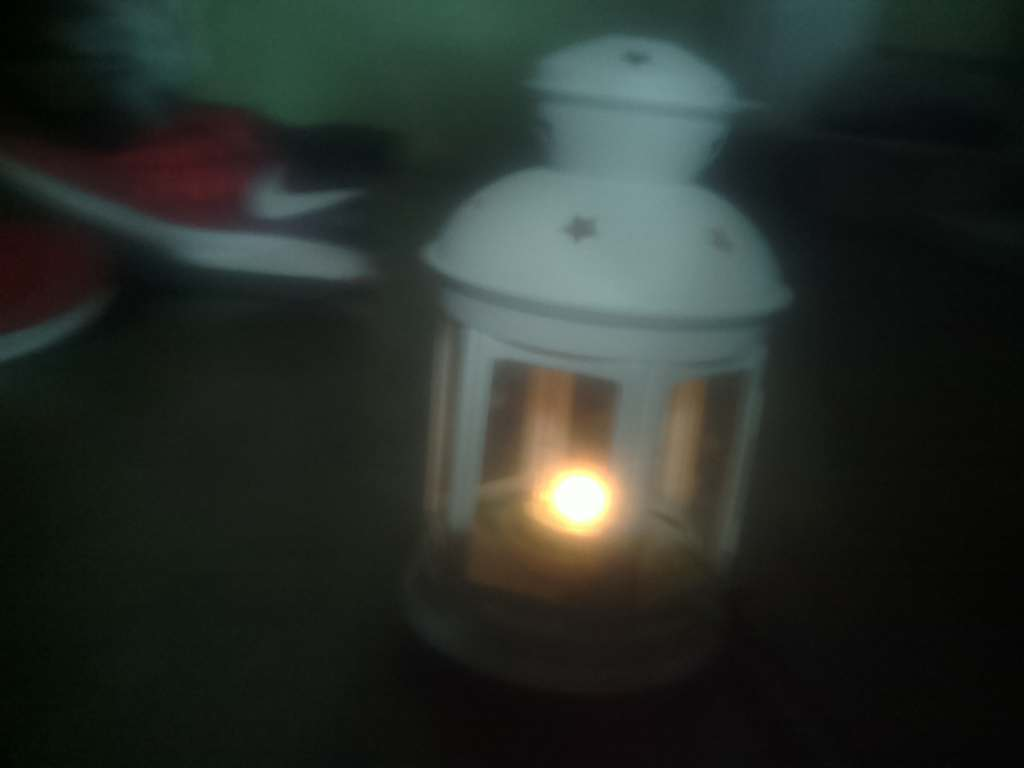fire: (505, 436, 636, 565)
